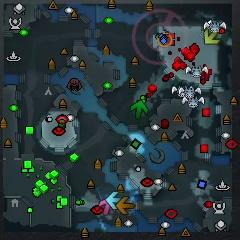Other: (158, 32, 172, 47)
x1: (100, 199, 112, 215)
x2: (205, 29, 219, 44)
x3: (107, 191, 121, 209)
x4: (131, 101, 148, 119)
x5: (117, 196, 134, 215)
